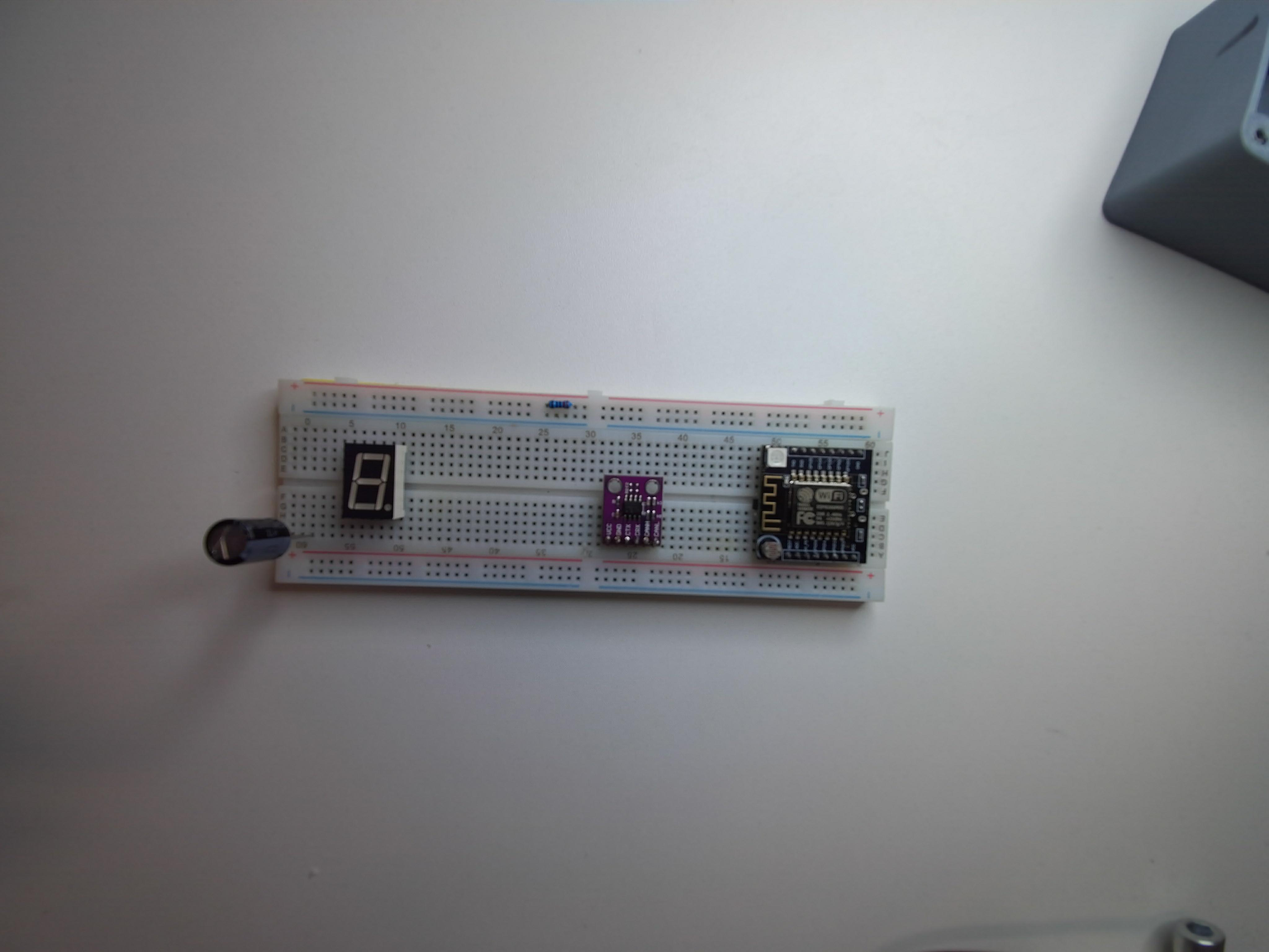base: (267, 377, 899, 601)
capacitor: (200, 515, 296, 569)
digit-board: (339, 439, 399, 523)
esp: (754, 439, 877, 569)
purple-board: (598, 473, 664, 548)
resistor-small: (542, 395, 576, 412)
